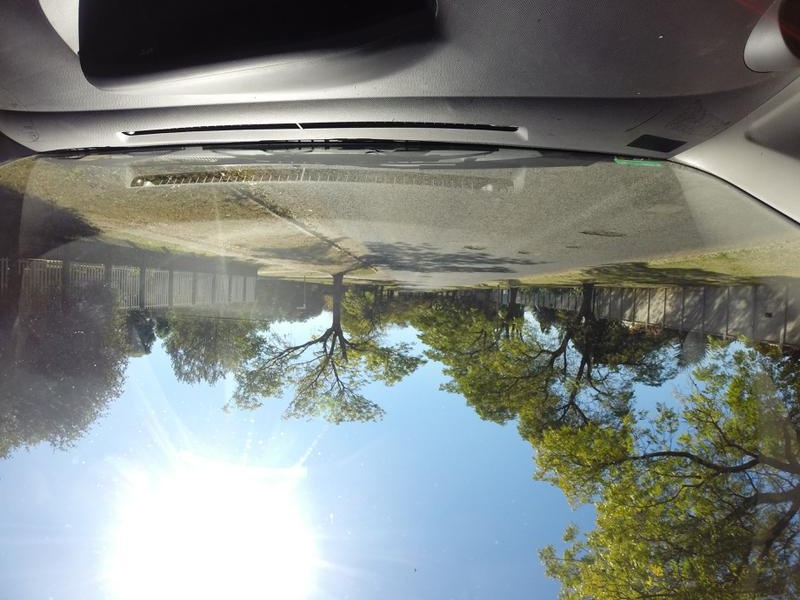pothole: (582, 228, 628, 239), (463, 238, 497, 251), (518, 242, 540, 258), (567, 244, 579, 249)
